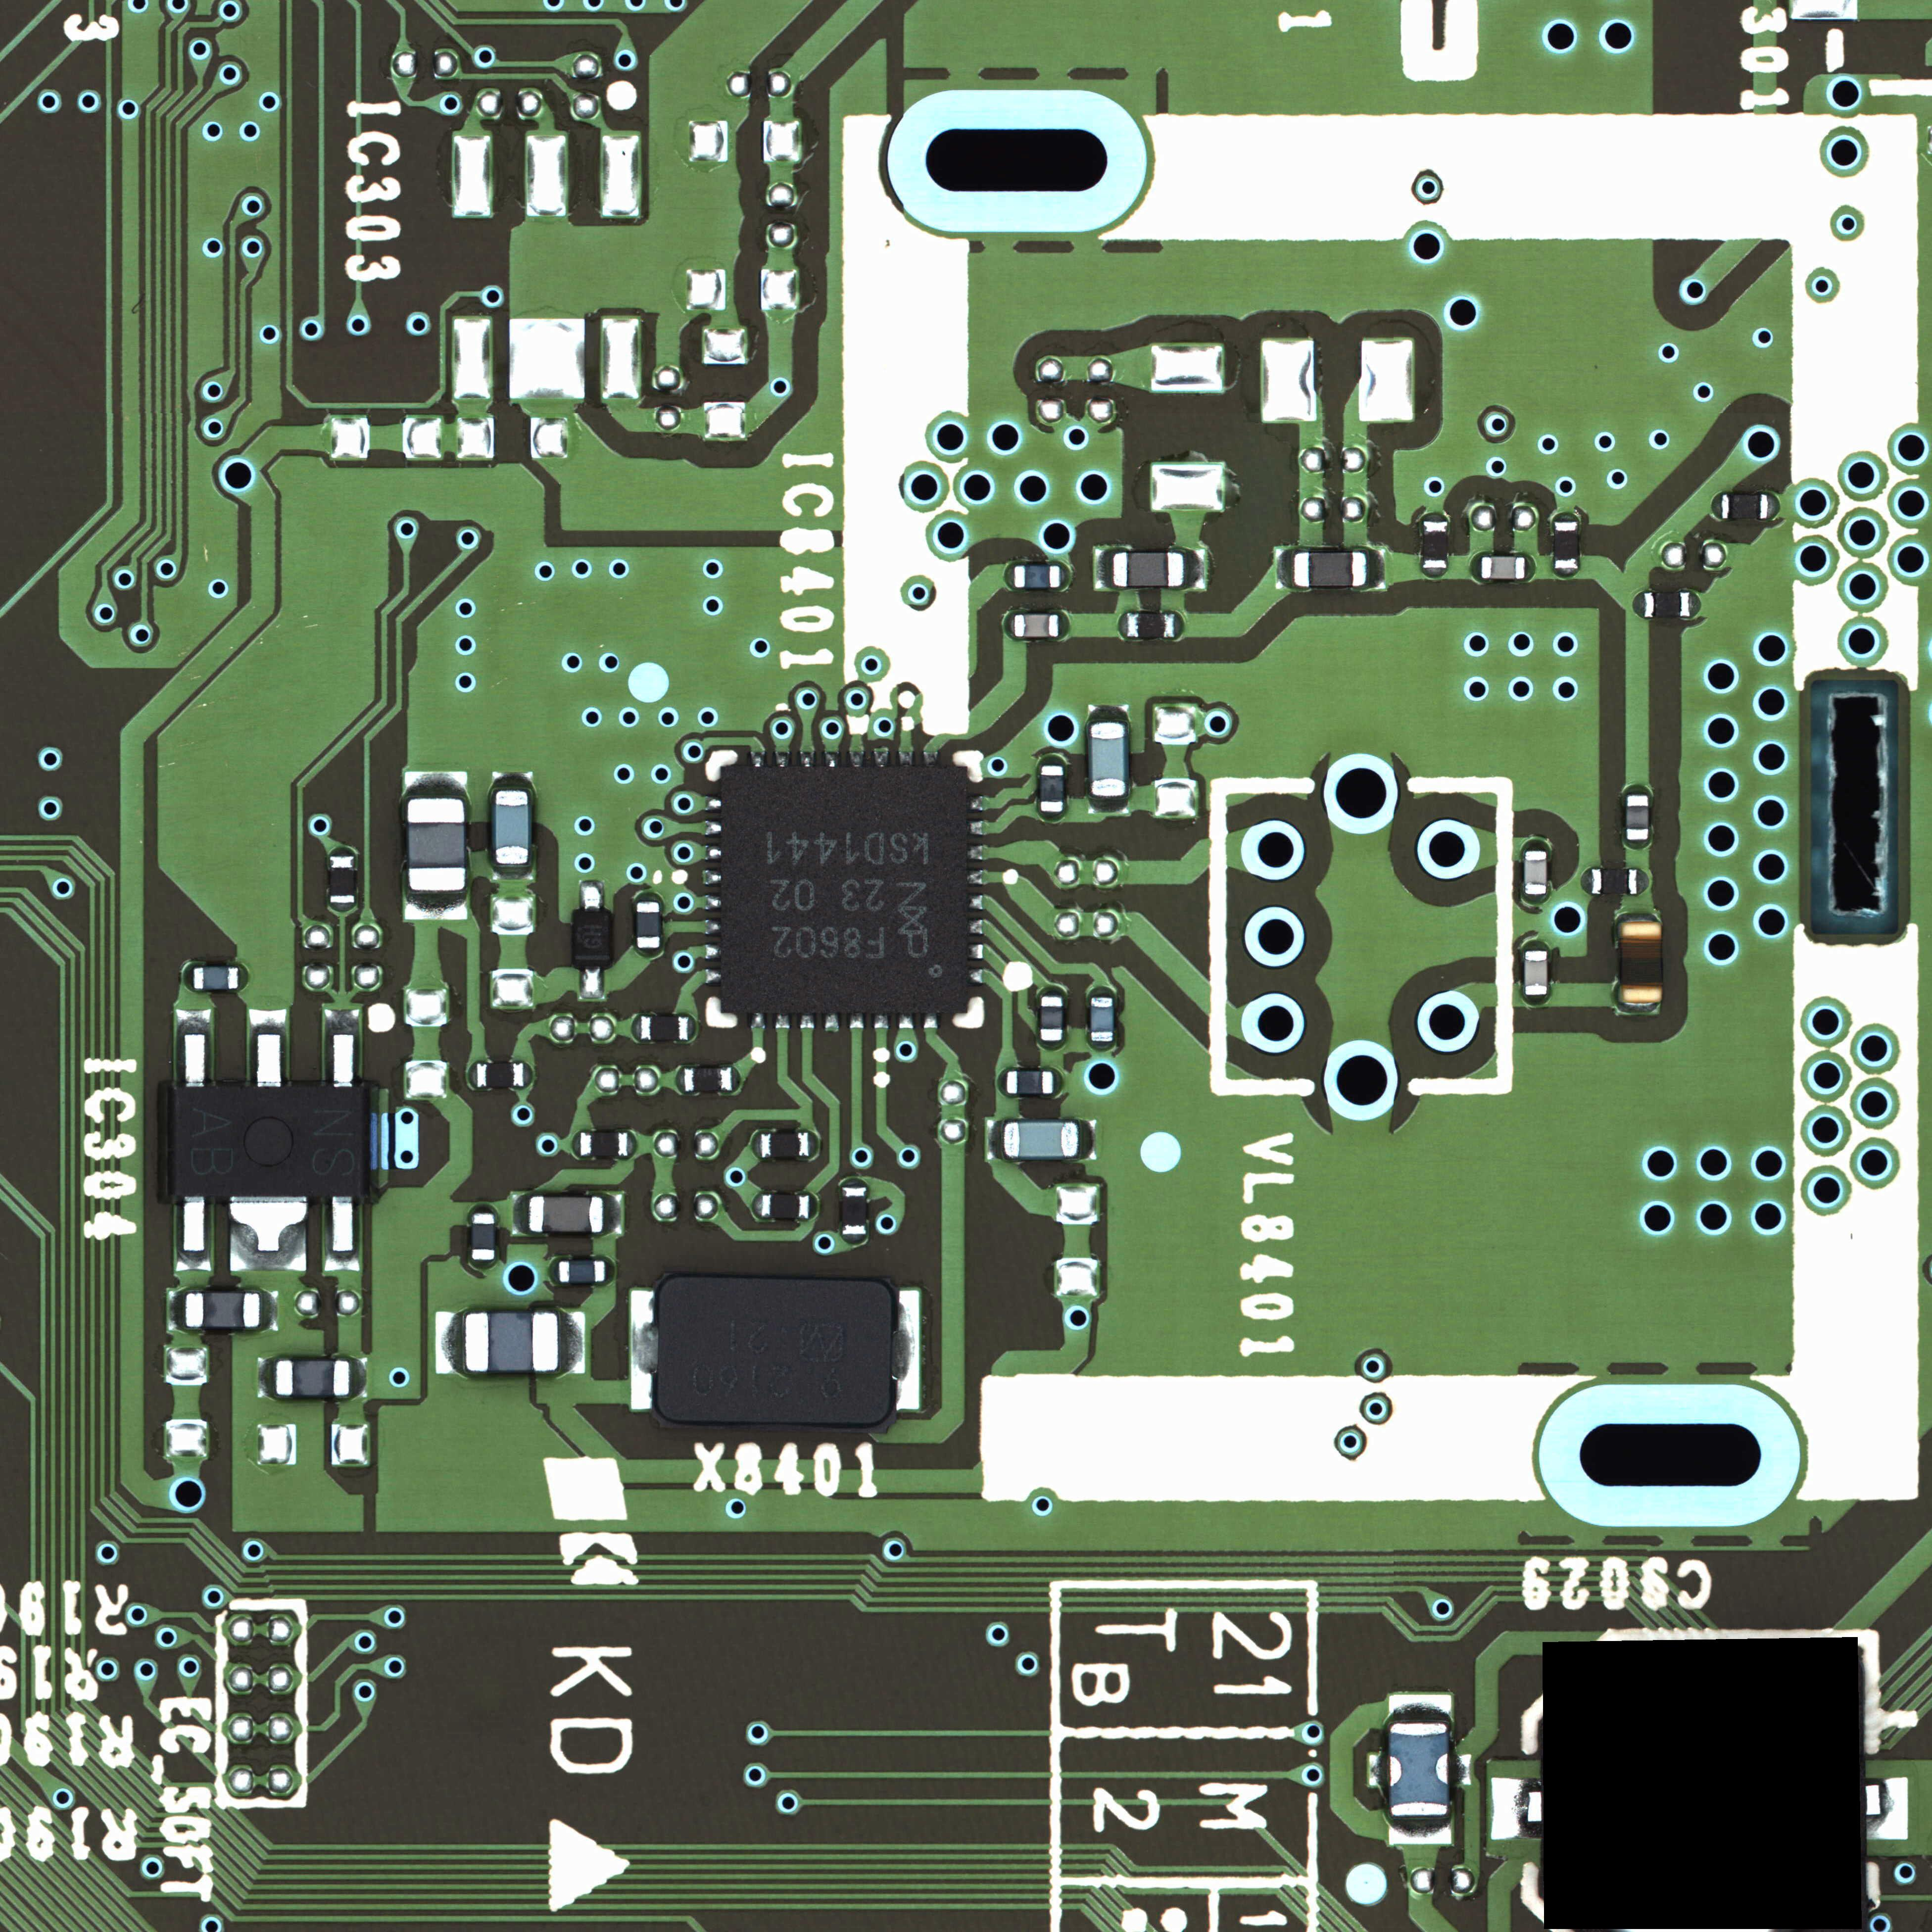Package: (722, 766, 966, 1014), (658, 1276, 895, 1426), (165, 1086, 368, 1198), (465, 1313, 559, 1371), (407, 798, 465, 890), (1392, 1723, 1447, 1815), (1621, 922, 1663, 1003), (529, 1196, 603, 1233), (276, 1359, 349, 1396), (184, 1292, 260, 1327), (495, 789, 531, 863), (1003, 1122, 1077, 1157), (1090, 724, 1125, 796), (1113, 552, 1184, 587), (1295, 552, 1366, 586), (573, 911, 612, 968), (1592, 869, 1638, 895), (1127, 614, 1175, 639), (331, 856, 356, 902), (640, 1016, 686, 1040), (478, 1063, 524, 1088), (761, 1132, 807, 1157), (763, 1194, 809, 1219), (842, 1187, 867, 1233), (1007, 1070, 1053, 1095), (1422, 522, 1447, 568), (1553, 522, 1578, 568), (1721, 494, 1767, 518), (683, 1069, 731, 1092), (579, 1132, 626, 1155), (1090, 998, 1115, 1042), (1645, 593, 1690, 617), (637, 902, 660, 948), (472, 1214, 495, 1260), (1040, 766, 1063, 812), (1523, 851, 1548, 893), (1040, 996, 1063, 1040), (1014, 614, 1058, 637), (1481, 556, 1525, 579), (557, 1261, 605, 1283), (193, 968, 239, 989), (1014, 566, 1060, 587), (1628, 794, 1649, 840), (1525, 952, 1546, 994)
Solder: (230, 1198, 306, 1272), (1491, 1776, 1541, 1840), (177, 1007, 216, 1086), (248, 1007, 287, 1086), (322, 1007, 361, 1086), (632, 1290, 656, 1410), (895, 1290, 920, 1410), (324, 1198, 361, 1272), (175, 1198, 211, 1272), (1867, 1776, 1907, 1840), (1391, 1815, 1451, 1845), (1391, 1693, 1449, 1723), (405, 892, 467, 920), (437, 1311, 464, 1371), (405, 771, 467, 796), (561, 1311, 586, 1373), (984, 1120, 1003, 1161), (1185, 550, 1207, 587), (603, 1194, 623, 1233), (1088, 704, 1127, 724), (580, 968, 603, 1000), (580, 881, 603, 911), (494, 771, 533, 789), (260, 1290, 278, 1329), (511, 1196, 529, 1233), (257, 1359, 274, 1396), (166, 1290, 184, 1327), (1093, 550, 1111, 587), (1368, 550, 1385, 587), (1276, 550, 1293, 586), (350, 1359, 366, 1398), (1090, 798, 1129, 814), (1079, 1120, 1095, 1159), (494, 863, 531, 879), (1615, 1003, 1660, 1016), (1614, 911, 1663, 922), (1001, 612, 1014, 639), (1631, 591, 1644, 617), (809, 1132, 821, 1157), (1767, 494, 1780, 518), (182, 964, 193, 993), (1525, 893, 1548, 906), (750, 1192, 761, 1219), (1175, 612, 1185, 639), (1053, 1069, 1063, 1095), (996, 1069, 1007, 1095), (968, 794, 984, 812), (824, 750, 842, 766), (899, 748, 915, 766), (872, 748, 888, 766), (847, 750, 865, 766), (968, 869, 984, 886), (966, 943, 984, 959), (824, 1014, 840, 1031), (1638, 869, 1649, 895), (1582, 869, 1592, 895), (1691, 591, 1702, 617), (331, 902, 356, 913), (626, 1132, 637, 1157), (750, 1132, 761, 1157), (1422, 568, 1447, 579), (1470, 556, 1481, 580), (1525, 938, 1546, 950), (1523, 996, 1548, 1007), (704, 794, 720, 810), (704, 819, 720, 835), (704, 870, 720, 886), (704, 893, 720, 909), (704, 945, 720, 961), (704, 968, 720, 984), (775, 750, 791, 766), (800, 750, 816, 766), (924, 750, 939, 766), (968, 821, 984, 837), (968, 895, 984, 911), (968, 968, 984, 984), (605, 1260, 616, 1283), (547, 1260, 557, 1283), (1003, 564, 1014, 587), (1115, 614, 1125, 637), (1058, 614, 1069, 637), (1040, 812, 1063, 823), (1523, 839, 1546, 849), (732, 1067, 741, 1093), (674, 1067, 683, 1093), (839, 1235, 865, 1244), (1553, 570, 1580, 579), (1711, 492, 1720, 518), (706, 846, 720, 862), (704, 920, 720, 934), (750, 1014, 764, 1030), (750, 752, 766, 766), (472, 1203, 494, 1214), (472, 1260, 494, 1270), (1060, 566, 1070, 587), (1525, 557, 1536, 579), (1092, 985, 1113, 996), (1040, 1040, 1062, 1051), (968, 846, 982, 862), (968, 920, 984, 934), (775, 1014, 789, 1030), (800, 1014, 814, 1030), (924, 1014, 939, 1028), (897, 1016, 913, 1030), (630, 1016, 639, 1040), (524, 1063, 533, 1088), (810, 1194, 819, 1219), (1628, 784, 1647, 794), (241, 968, 249, 991), (1422, 513, 1445, 522), (1040, 755, 1063, 764), (842, 1177, 865, 1185), (1555, 513, 1578, 522), (874, 1016, 888, 1030), (849, 1016, 863, 1030), (639, 948, 660, 957), (1092, 1044, 1113, 1053), (1040, 985, 1062, 994), (1628, 840, 1649, 849), (331, 847, 356, 855), (688, 1017, 695, 1040), (571, 1132, 579, 1155), (637, 893, 658, 901), (469, 1065, 476, 1086)
